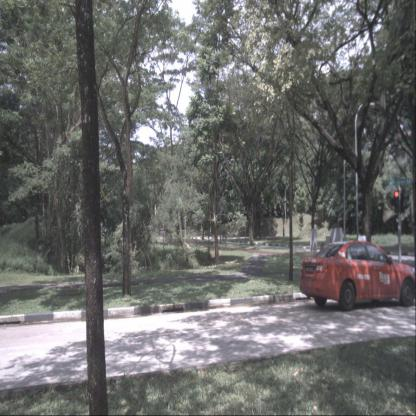vehicle-car: (300, 235, 416, 312)
